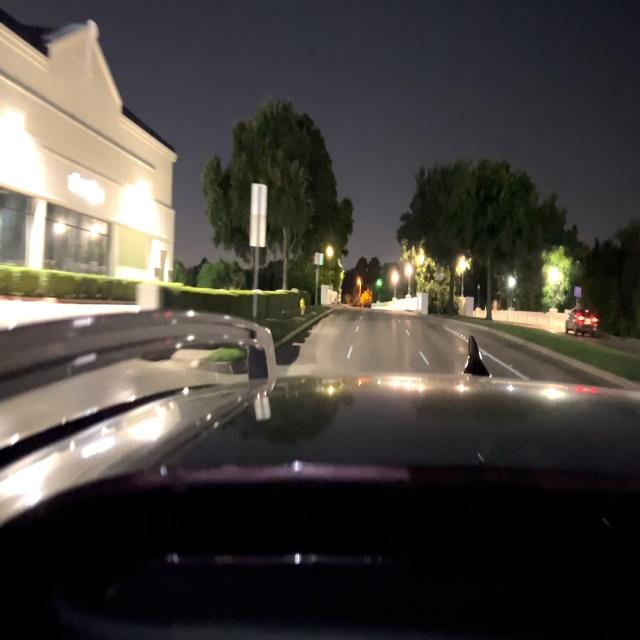back-of-sign: (252, 186, 266, 242), (315, 252, 323, 264)
